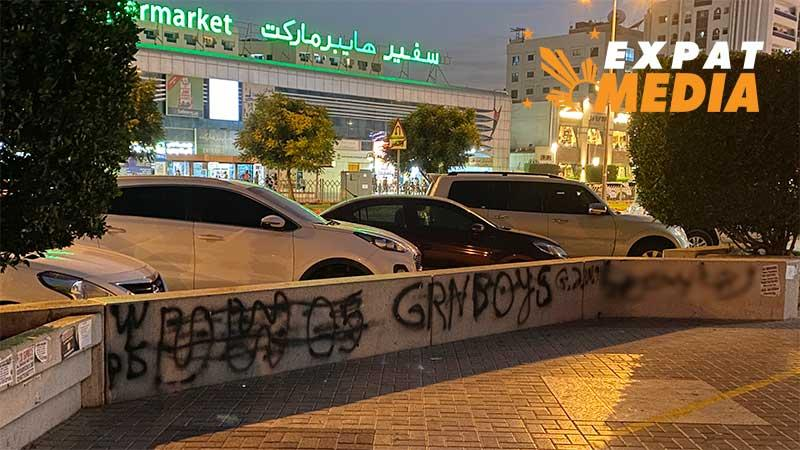graffiti: (103, 302, 363, 367), (390, 266, 589, 331)
